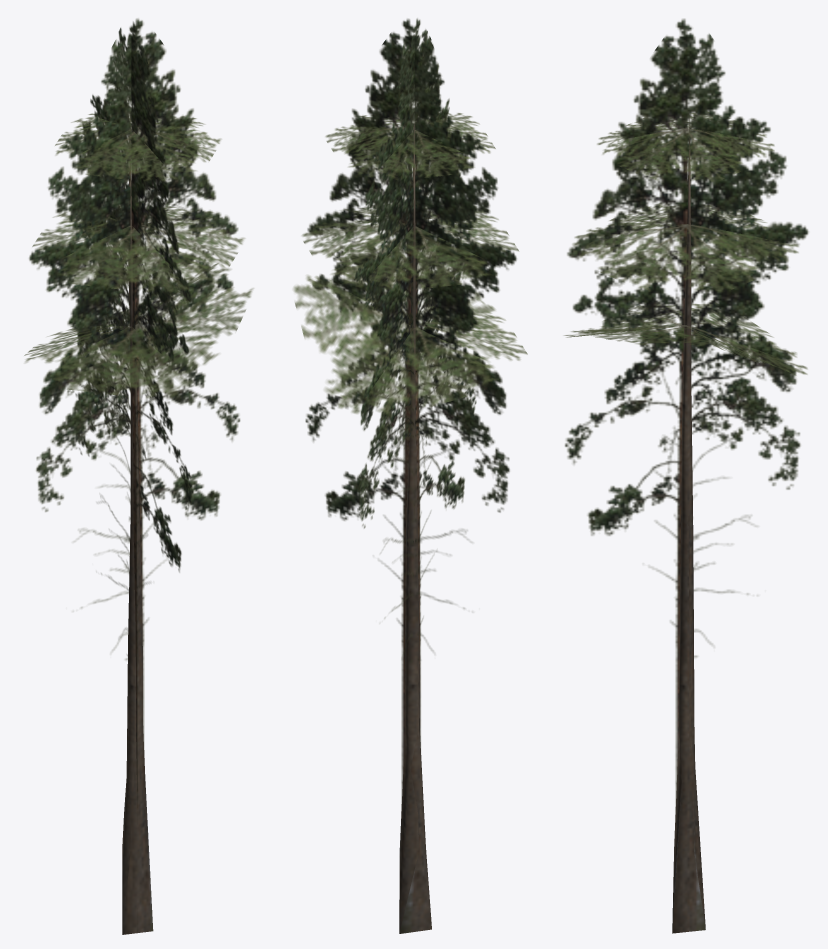
The model's file is tree_08.glb.
3 renders of one model, left to right at view 1: azimuth 30°, elevation 25°; view 2: azimuth 150°, elevation 25°; view 3: azimuth 270°, elevation 25°, orthographic.
Visible parts, largest first — view 1: Background_Tree_Atlas.007_Background_Tree_Atlas_0; view 2: Background_Tree_Atlas.007_Background_Tree_Atlas_0; view 3: Background_Tree_Atlas.007_Background_Tree_Atlas_0.
Part boxes in pixels (x1,y1,x2,y2): Background_Tree_Atlas.007_Background_Tree_Atlas_0: (24,18,253,934); Background_Tree_Atlas.007_Background_Tree_Atlas_0: (293,18,527,933); Background_Tree_Atlas.007_Background_Tree_Atlas_0: (564,18,808,933).
Bounding box in the file's own units: 6.5 × 26.01 × 6.52.
Materials: 1 (1 with a texture image).
